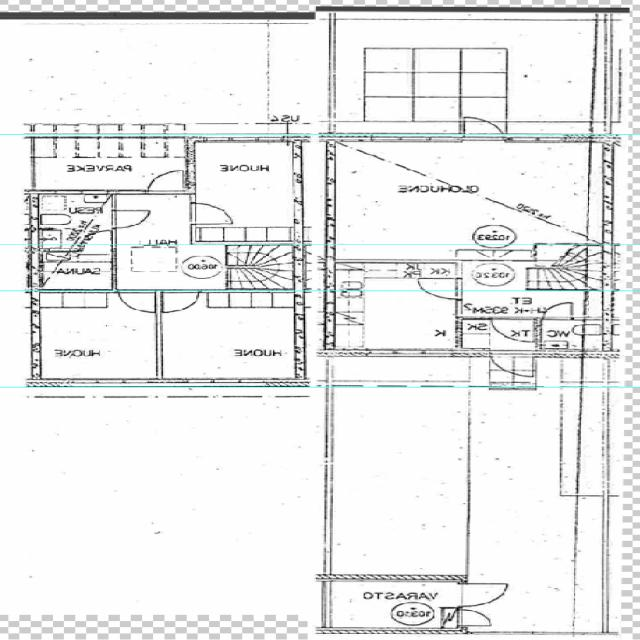door: (464, 110, 505, 142), (491, 350, 533, 381), (458, 583, 511, 606), (492, 316, 534, 342), (148, 168, 183, 194), (190, 204, 233, 224), (420, 281, 462, 301), (165, 289, 199, 311), (120, 289, 154, 311), (111, 210, 149, 228), (458, 610, 497, 626), (545, 301, 573, 320), (81, 234, 107, 252)
